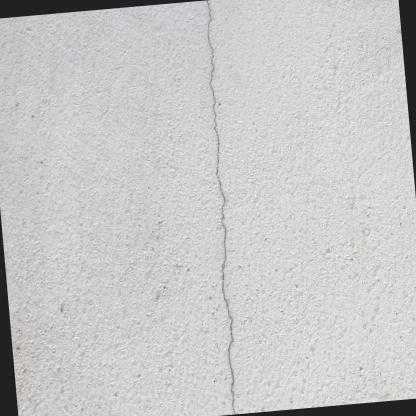crack: (205, 0, 236, 415)
